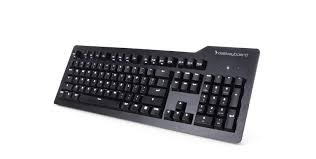keyboard: (44, 39, 267, 154)
